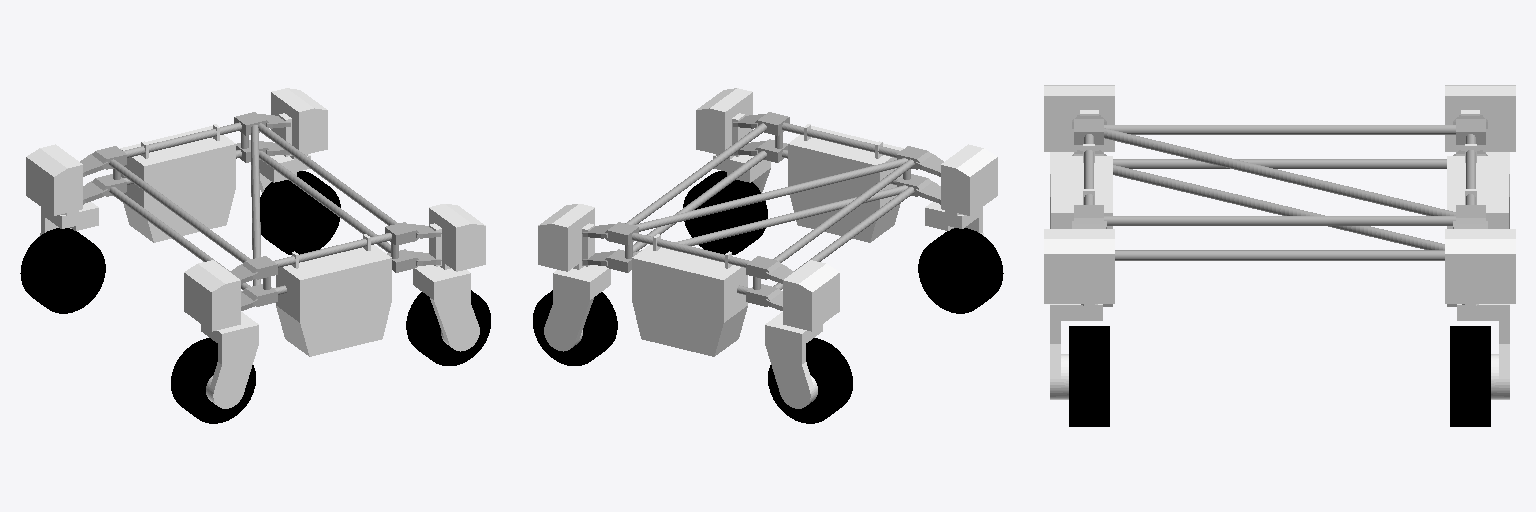
--- Render facts (derived) ---
3 views of the same robot in one strip: view 1: azimuth 30°, elevation 25°; view 2: azimuth 150°, elevation 25°; view 3: azimuth 270°, elevation 25° (orthographic).
Robot: thorvald_ii — 45 links, 44 joints (8 continuous, 36 fixed); root link /base_link; default pose: all joints at 0.
Visible links, largest first — view 1: /bat1, /bat0, /wheel3_link, /wheel2_link, /leg1, /wheel0_link, /top3, /top0, /leg0, /top1, /wheel1_link, /top2 (+10 smaller); view 2: /bat0, /bat1, /wheel0_link, /wheel1_link, /leg2, /wheel3_link, /top0, /top3, /leg3, /top2, /wheel2_link, /top1 (+11 smaller); view 3: /top1, /top2, /wheel1_link, /wheel2_link, /top3, /pipe1_1, /top0, /pipe4_2, /pipe1_2, /pipe3_2, /bat1, /bat0 (+10 smaller).
Boxes of the visible links, x1,y1,x2,y2 form: /bat1: (276, 234, 391, 356); /bat0: (120, 124, 235, 242); /wheel3_link: (20, 228, 105, 313); /wheel2_link: (260, 171, 340, 254); /leg1: (413, 265, 479, 351); /wheel0_link: (171, 338, 255, 423); /top3: (26, 144, 82, 215); /top0: (184, 260, 240, 331); /leg0: (201, 312, 258, 408); /top1: (429, 204, 485, 271); /wheel1_link: (406, 290, 490, 365); /top2: (271, 88, 327, 159); /bat0: (632, 234, 747, 356); /bat1: (788, 124, 903, 242); /wheel0_link: (918, 228, 1003, 313); /wheel1_link: (683, 171, 767, 254); /leg2: (544, 265, 610, 351); /wheel3_link: (768, 338, 852, 423); /top0: (941, 144, 997, 215); /top3: (783, 260, 839, 331); /leg3: (765, 312, 822, 408); /top2: (538, 204, 594, 271); /wheel2_link: (533, 290, 617, 365); /top1: (696, 88, 752, 159); /top1: (1044, 229, 1114, 305); /top2: (1445, 229, 1515, 305); /wheel1_link: (1069, 326, 1109, 426); /wheel2_link: (1450, 326, 1490, 426); /top3: (1445, 85, 1515, 152); /pipe1_1: (1115, 250, 1444, 260); /top0: (1044, 85, 1114, 152); /pipe4_2: (1104, 128, 1455, 215); /pipe1_2: (1104, 216, 1455, 225); /pipe3_2: (1104, 125, 1455, 134); /bat1: (1051, 144, 1112, 306); /bat0: (1447, 144, 1508, 306).
Bounding box of the posed robot: 1.76 × 1.85 × 0.8114 m (x, y, z).
Meshes: 7 distinct files referenced, 26 mesh visuals loaded (7 binary STL).

URDF robot description (thorvald_ii):
<?xml version="1.0" ?>
<!-- =================================================================================== -->
<!-- |    This document was autogenerated by xacro from thorvald_model.xacro           | -->
<!-- |    EDITING THIS FILE BY HAND IS NOT RECOMMENDED                                 | -->
<!-- =================================================================================== -->
<!--
     Maintainer: Lars Grimstad <[email redacted]>

     TODO
     - config file name as arg
     - modify to accept drive modules without steering, passive wheel modules etc.
     - add mesh
     - add mass properties
     - common parameters to a config file?
-->
<robot name="thorvald_ii" xmlns:xacro="http://www.ros.org/wiki/xacro">
  <!-- <gazebo>
    <plugin filename="libthorvald_gazebo_plugins.so" name="_thorvald_gazebo_plugins">
      <alwaysOn>true</alwaysOn>
      <updateRate>20</updateRate>
      <robotNamespace></robotNamespace>
      <commandTopic>base_state</commandTopic>
      <odometryTopic>odometry/gazebo</odometryTopic>
      <odometryFrame>/odom</odometryFrame>
      <robotBaseFrame>/base_link</robotBaseFrame>
      <steering0>/steering0</steering0>
      <steering1>/steering1</steering1>
      <steering2>/steering2</steering2>
      <steering3>/steering3</steering3>
      <steering4>/steering4</steering4>
      <steering5>/steering5</steering5>
      <steering6>/steering6</steering6>
      <steering7>/steering7</steering7>
      <steering8>/steering8</steering8>
      <steering9>/steering9</steering9>
      <steering10>s/teering10</steering10>
      <wheel0>/wheel0</wheel0>
      <wheel1>/wheel1</wheel1>
      <wheel2>/wheel2</wheel2>
      <wheel3>/wheel3</wheel3>
      <wheel4>/wheel4</wheel4>
      <wheel5>/wheel5</wheel5>
      <wheel6>/wheel6</wheel6>
      <wheel7>/wheel7</wheel7>
      <wheel8>/wheel8</wheel8>
      <wheel9>/wheel9</wheel9>
      <wheel10>/wheel10</wheel10>
    </plugin>
  </gazebo> -->
  <!--
    <alwaysOn>true</alwaysOn>
    <robotNamespace>thorvald_ii</robotNamespace>
    <steering2>steering2</steering2>
    <steering1>steering1</steering1>
    <steering3>steering3</steering3>
    <steering0>steering0</steering0>
    <publishOdometryMsg>true</publishOdometryMsg>
    <publishOdometryTf>true</publishOdometryTf>
    <robotBaseFrame>base_link</robotBaseFrame>
    <commandTopic>joint_commands</commandTopic>
    <odometryTopic>odom</odometryTopic>
    <odometryFrame>odom</odometryFrame>
    <updateRate>100.0</updateRate>
    <platform_width>0.570</platform_width>
    <wheel_radius>0.400</wheel_radius>
      <torque>5.0</torque>
    </plugin>
  </gazebo> -->
  <!-- MATERIAL DEFINITIONS -->
  <material name="white">
    <color rgba="1 1 1 1"/>
  </material>
  <material name="black">
    <color rgba="0 0 0 1"/>
  </material>
  <material name="red">
    <color rgba="1 0 0 1"/>
  </material>
  <material name="green">
    <color rgba="0 1 0 1"/>
  </material>
  <material name="alu">
    <color rgba="0.75 0.75 0.75 1"/>
  </material>
  <!-- CREATE ROBOT -->
  <!-- Create base link -->
  <link name="/base_link"/>
  <link name="/top0">
    <inertial>
      <origin rpy="0 0 0" xyz="0 0 0"/>
      <mass value="10.21"/>
      <!-- Measured /-->
      <inertia ixx="1.267" ixy="0.086" ixz="0.078" iyy="1.089" iyz="0.150" izz="0.853"/>
      <!-- Measured /-->
    </inertial>
    <visual>
      <geometry>
        <mesh filename="../meshes/tower_modules/DUMMY-TOWER-M.stl"/>
      </geometry>
      <material name="white"/>
    </visual>
    <collision name="leg0_collision">
      <geometry>
        <mesh filename="../meshes/tower_modules/DUMMY-TOWER-M.stl"/>
      </geometry>
    </collision>
  </link>
  <!-- <gazebo reference="/top0">
    <sensor name="my_contact" type="contact">
      <plugin filename="libcontact.so" name="my_plugin"/>
      <contact>
        <collision>/top0_fixed_joint_lump__top0_collision_collision</collision>
      </contact>
      <plugin filename="libgazebo_ros_bumper.so" name="gazebo_ros_bumper_controller">
        <bumperTopicName>bumper_vals</bumperTopicName>
      </plugin>
    </sensor>
  </gazebo> -->
  <joint name="/base_linktop0" type="fixed">
    <parent link="/base_link"/>
    <child link="/top0"/>
    <origin rpy="0 0 3.14159265359" xyz="-0.67792 -0.75 0.65"/>
    <axis xyz="0 0 1"/>
  </joint>
  <link name="/leg0">
    <inertial>
      <origin rpy="0 0 0" xyz="0 0 0"/>
      <mass value="15.64"/>
      <!-- Measured /-->
      <inertia ixx="6.150" ixy="1.310" ixz="0.218" iyy="1.386" iyz="0.873" izz="6.098"/>
      <!-- Measured /-->
    </inertial>
    <visual>
      <origin rpy="0 0 3.14159265359" xyz="0 0 0"/>
      <geometry>
        <mesh filename="../meshes/drive_modules/836745-5-DUMMY-RevA.stl"/>
        <!--cylinder length="${leg_length}" radius="${leg_radius}"/-->
        <!--mesh filename="package://thorvald_base/meshes/top_chassis.dae"/-->
      </geometry>
      <material name="white"/>
    </visual>
    <collision name="leg0_collision">
      <origin rpy="0 0 3.14159265359" xyz="0 0 0"/>
      <geometry>
        <mesh filename="../meshes/drive_modules/836745-5-DUMMY-RevA.stl"/>
      </geometry>
    </collision>
  </link>
  <!-- <gazebo reference="/leg0">
    <sensor name="my_contact" type="contact">
      <plugin filename="libcontact.so" name="my_plugin"/>
      <contact>
        <collision>/leg0_fixed_joint_lump__leg0_collision_collision</collision>
      </contact>
      <plugin filename="libgazebo_ros_bumper.so" name="gazebo_ros_bumper_controller">
        <bumperTopicName>bumper_vals</bumperTopicName>
      </plugin>
    </sensor>
  </gazebo> -->
  <joint name="/steering0" type="continuous">
    <parent link="/base_link"/>
    <child link="/leg0"/>
    <origin rpy="0 0 0" xyz="-0.67792 -0.75 0.2"/>
    <axis xyz="0 0 1"/>
  </joint>
  <transmission name="steering0_tran">
    <type>transmission_interface/SimpleTransmission</type>
    <joint name="/steering0">
      <hardwareInterface>hardware_interface/EffortJointInterface</hardwareInterface>
    </joint>
    <actuator name="steering0_motor">
      <hardwareInterface>hardware_interface/EffortJointInterface</hardwareInterface>
      <mechanicalReduction>1</mechanicalReduction>
    </actuator>
  </transmission>
  <link name="/wheel0_link">
    <inertial>
      <origin rpy="0 0 0" xyz="0 0 0"/>
      <mass value="6.00"/>
      <!-- Measured /-->
      <inertia ixx="0.874" ixy="0.00" ixz="0.00" iyy="1.504" iyz="0.00" izz="0.874"/>
      <!-- Measured /-->
    </inertial>
    <visual>
      <geometry>
        <cylinder length="0.16" radius="0.2"/>
      </geometry>
      <material name="black"/>
    </visual>
    <collision name="wheel0_collision">
      <geometry>
        <cylinder length="0.16" radius="0.2"/>
      </geometry>
    </collision>
  </link>
  <!-- <gazebo reference="/wheel0_link">
    <material>Gazebo/Black</material>
    <mu1 value="0.5"/>
    <mu2 value="0.5"/>
    <kp value="1000000.0"/>
    <kd value="1.0"/>
    <sensor name="my_contact" type="contact">
      <plugin filename="libcontact.so" name="my_plugin"/>
      <contact>
        <collision>/wheel0_link_fixed_joint_lump__wheel0_collision_collision</collision>
      </contact>
      <plugin filename="libgazebo_ros_bumper.so" name="gazebo_ros_bumper_controller">
        <bumperTopicName>bumper_vals</bumperTopicName>
      </plugin>
    </sensor>
  </gazebo>
  <gazebo reference="/wheel0_link">
    <material>Gazebo/Black</material>
    <mu1 value="0.5"/>
    <mu2 value="0.5"/>
    <kp value="1000000.0"/>
    <kd value="1.0"/>
  </gazebo> -->
  <joint name="/wheel0" type="continuous">
    <parent link="/leg0"/>
    <child link="/wheel0_link"/>
    <origin rpy="-1.57079632679 0 0" xyz="0 0 0"/>
    <axis xyz="0 0 1"/>
    <!--dynamics damping="0" friction="0"/-->
  </joint>
  <transmission name="wheel0_tran">
    <type>transmission_interface/SimpleTransmission</type>
    <joint name="/wheel0">
      <hardwareInterface>hardware_interface/EffortJointInterface</hardwareInterface>
    </joint>
    <actuator name="wheel0_motor">
      <hardwareInterface>hardware_interface/EffortJointInterface</hardwareInterface>
      <mechanicalReduction>1</mechanicalReduction>
    </actuator>
  </transmission>
  <!-- -->
  <!--
    <link name="$(arg tf_prefix)/rod_l_${wheel}">
      <visual>
        <geometry>
          <cylinder length="20" radius="0.01"/>
        </geometry>
	<material name="red" />
      </visual>
    </link>


    <joint name="$(arg tf_prefix)/rod_l_${wheel}" type="fixed">
      <parent link="$(arg tf_prefix)/${wheel}_link"/>
      <child link="$(arg tf_prefix)/rod_l_${wheel}"/>
      <origin xyz="0 0 10" rpy="0 0 0"/>
      <axis xyz="0 0 1"/>
    </joint>

    <link name="$(arg tf_prefix)/rod_r_${wheel}">
      <visual>
        <geometry>
          <cylinder length="20" radius="0.01"/>
        </geometry>
	<material name="green" />
      </visual>
    </link>

    <joint name="$(arg tf_prefix)/rod_r_${wheel}" type="fixed">
      <parent link="$(arg tf_prefix)/${wheel}_link"/>
      <child link="$(arg tf_prefix)/rod_r_${wheel}"/>
      <origin xyz="0 0 -10" rpy="0 0 0"/>
      <axis xyz="0 0 1"/>
    </joint>



    <link name="$(arg tf_prefix)/rod2_l_${wheel}">
      <visual>
        <geometry>
          <cylinder length="80" radius="0.01"/>
        </geometry>
	<material name="red" />
      </visual>
    </link>

    <joint name="$(arg tf_prefix)/rod2_l_${wheel}" type="fixed">
      <parent link="$(arg tf_prefix)/rod_l_${wheel}"/>
      <child link="$(arg tf_prefix)/rod2_l_${wheel}"/>
      <origin xyz="0 0 40" rpy="0 0 0"/>
      <axis xyz="0 0 1"/>
    </joint>

    <link name="$(arg tf_prefix)/rod2_r_${wheel}">
      <visual>
        <geometry>
          <cylinder length="80" radius="0.01"/>
        </geometry>
	<material name="green" />
      </visual>
    </link>

    <joint name="$(arg tf_prefix)/rod2_r_${wheel}" type="fixed">
      <parent link="$(arg tf_prefix)/rod_r_${wheel}"/>
      <child link="$(arg tf_prefix)/rod2_r_${wheel}"/>
      <origin xyz="0 0 -40" rpy="0 0 0"/>
      <axis xyz="0 0 1"/>
    </joint>
    -->
  <!-- -->
  <link name="/top1">
    <inertial>
      <origin rpy="0 0 0" xyz="0 0 0"/>
      <mass value="10.21"/>
      <!-- Measured /-->
      <inertia ixx="1.267" ixy="0.086" ixz="0.078" iyy="1.089" iyz="0.150" izz="0.853"/>
      <!-- Measured /-->
    </inertial>
    <visual>
      <geometry>
        <mesh filename="../meshes/tower_modules/DUMMY-TOWER-MIRROR-M.stl"/>
      </geometry>
      <material name="white"/>
    </visual>
    <collision name="leg1_collision">
      <geometry>
        <mesh filename="../meshes/tower_modules/DUMMY-TOWER-MIRROR-M.stl"/>
      </geometry>
    </collision>
  </link>
  <!-- <gazebo reference="/top1">
    <sensor name="my_contact" type="contact">
      <plugin filename="libcontact.so" name="my_plugin"/>
      <contact>
        <collision>/top1_fixed_joint_lump__top1_collision_collision</collision>
      </contact>
      <plugin filename="libgazebo_ros_bumper.so" name="gazebo_ros_bumper_controller">
        <bumperTopicName>bumper_vals</bumperTopicName>
      </plugin>
    </sensor>
  </gazebo> -->
  <joint name="/base_linktop1" type="fixed">
    <parent link="/base_link"/>
    <child link="/top1"/>
    <origin rpy="0 0 0" xyz="0.67792 -0.75 0.65"/>
    <axis xyz="0 0 1"/>
  </joint>
  <link name="/leg1">
    <inertial>
      <origin rpy="0 0 0" xyz="0 0 0"/>
      <mass value="15.64"/>
      <!-- Measured /-->
      <inertia ixx="6.150" ixy="1.310" ixz="0.218" iyy="1.386" iyz="0.873" izz="6.098"/>
      <!-- Measured /-->
    </inertial>
    <visual>
      <origin rpy="0 0 0" xyz="0 0 0"/>
      <geometry>
        <mesh filename="../meshes/drive_modules/836745-5-DUMMY-MIRROR-RevA.stl"/>
        <!--cylinder length="${leg_length}" radius="${leg_radius}"/-->
        <!--mesh filename="package://thorvald_base/meshes/top_chassis.dae"/-->
      </geometry>
      <material name="white"/>
    </visual>
    <collision name="leg1_collision">
      <origin rpy="0 0 0" xyz="0 0 0"/>
      <geometry>
        <mesh filename="../meshes/drive_modules/836745-5-DUMMY-MIRROR-RevA.stl"/>
      </geometry>
    </collision>
  </link>
  <!-- <gazebo reference="/leg1">
    <sensor name="my_contact" type="contact">
      <plugin filename="libcontact.so" name="my_plugin"/>
      <contact>
        <collision>/leg1_fixed_joint_lump__leg1_collision_collision</collision>
      </contact>
      <plugin filename="libgazebo_ros_bumper.so" name="gazebo_ros_bumper_controller">
        <bumperTopicName>bumper_vals</bumperTopicName>
      </plugin>
    </sensor>
  </gazebo> -->
  <joint name="/steering1" type="continuous">
    <parent link="/base_link"/>
    <child link="/leg1"/>
    <origin rpy="0 0 0" xyz="0.67792 -0.75 0.2"/>
    <axis xyz="0 0 1"/>
  </joint>
  <transmission name="steering1_tran">
    <type>transmission_interface/SimpleTransmission</type>
    <joint name="/steering1">
      <hardwareInterface>hardware_interface/EffortJointInterface</hardwareInterface>
    </joint>
    <actuator name="steering1_motor">
      <hardwareInterface>hardware_interface/EffortJointInterface</hardwareInterface>
      <mechanicalReduction>1</mechanicalReduction>
    </actuator>
  </transmission>
  <link name="/wheel1_link">
    <inertial>
      <origin rpy="0 0 0" xyz="0 0 0"/>
      <mass value="6.00"/>
      <!-- Measured /-->
      <inertia ixx="0.874" ixy="0.00" ixz="0.00" iyy="1.504" iyz="0.00" izz="0.874"/>
      <!-- Measured /-->
    </inertial>
    <visual>
      <geometry>
        <cylinder length="0.16" radius="0.2"/>
      </geometry>
      <material name="black"/>
    </visual>
    <collision name="wheel1_collision">
      <geometry>
        <cylinder length="0.16" radius="0.2"/>
      </geometry>
    </collision>
  </link>
  <!-- <gazebo reference="/wheel1_link">
    <material>Gazebo/Black</material>
    <mu1 value="0.5"/>
    <mu2 value="0.5"/>
    <kp value="1000000.0"/>
    <kd value="1.0"/>
    <sensor name="my_contact" type="contact">
      <plugin filename="libcontact.so" name="my_plugin"/>
      <contact>
        <collision>/wheel1_link_fixed_joint_lump__wheel1_collision_collision</collision>
      </contact>
      <plugin filename="libgazebo_ros_bumper.so" name="gazebo_ros_bumper_controller">
        <bumperTopicName>bumper_vals</bumperTopicName>
      </plugin>
    </sensor>
  </gazebo>
  <gazebo reference="/wheel1_link">
    <material>Gazebo/Black</material>
    <mu1 value="0.5"/>
    <mu2 value="0.5"/>
    <kp value="1000000.0"/>
    <kd value="1.0"/>
  </gazebo> -->
  <joint name="/wheel1" type="continuous">
    <parent link="/leg1"/>
    <child link="/wheel1_link"/>
    <origin rpy="-1.57079632679 0 0" xyz="0 0 0"/>
    <axis xyz="0 0 1"/>
    <!--dynamics damping="0" friction="0"/-->
  </joint>
  <transmission name="wheel1_tran">
    <type>transmission_interface/SimpleTransmission</type>
    <joint name="/wheel1">
      <hardwareInterface>hardware_interface/EffortJointInterface</hardwareInterface>
    </joint>
    <actuator name="wheel1_motor">
      <hardwareInterface>hardware_interface/EffortJointInterface</hardwareInterface>
      <mechanicalReduction>1</mechanicalReduction>
    </actuator>
  </transmission>
  <!-- -->
  <!--
    <link name="$(arg tf_prefix)/rod_l_${wheel}">
      <visual>
        <geometry>
          <cylinder length="20" radius="0.01"/>
        </geometry>
	<material name="red" />
      </visual>
    </link>


    <joint name="$(arg tf_prefix)/rod_l_${wheel}" type="fixed">
      <parent link="$(arg tf_prefix)/${wheel}_link"/>
      <child link="$(arg tf_prefix)/rod_l_${wheel}"/>
      <origin xyz="0 0 10" rpy="0 0 0"/>
      <axis xyz="0 0 1"/>
    </joint>

    <link name="$(arg tf_prefix)/rod_r_${wheel}">
      <visual>
        <geometry>
          <cylinder length="20" radius="0.01"/>
        </geometry>
	<material name="green" />
      </visual>
    </link>

    <joint name="$(arg tf_prefix)/rod_r_${wheel}" type="fixed">
      <parent link="$(arg tf_prefix)/${wheel}_link"/>
      <child link="$(arg tf_prefix)/rod_r_${wheel}"/>
      <origin xyz="0 0 -10" rpy="0 0 0"/>
      <axis xyz="0 0 1"/>
    </joint>



    <link name="$(arg tf_prefix)/rod2_l_${wheel}">
      <visual>
        <geometry>
          <cylinder length="80" radius="0.01"/>
        </geometry>
	<material name="red" />
      </visual>
    </link>

    <joint name="$(arg tf_prefix)/rod2_l_${wheel}" type="fixed">
      <parent link="$(arg tf_prefix)/rod_l_${wheel}"/>
      <child link="$(arg tf_prefix)/rod2_l_${wheel}"/>
      <origin xyz="0 0 40" rpy="0 0 0"/>
      <axis xyz="0 0 1"/>
    </joint>

    <link name="$(arg tf_prefix)/rod2_r_${wheel}">
      <visual>
        <geometry>
          <cylinder length="80" radius="0.01"/>
        </geometry>
	<material name="green" />
      </visual>
    </link>

    <joint name="$(arg tf_prefix)/rod2_r_${wheel}" type="fixed">
      <parent link="$(arg tf_prefix)/rod_r_${wheel}"/>
      <child link="$(arg tf_prefix)/rod2_r_${wheel}"/>
      <origin xyz="0 0 -40" rpy="0 0 0"/>
      <axis xyz="0 0 1"/>
    </joint>
    -->
  <!-- -->
  <link name="/top2">
    <inertial>
      <origin rpy="0 0 0" xyz="0 0 0"/>
      <mass value="10.21"/>
      <!-- Measured /-->
      <inertia ixx="1.267" ixy="0.086" ixz="0.078" iyy="1.089" iyz="0.150" izz="0.853"/>
      <!-- Measured /-->
    </inertial>
    <visual>
      <geometry>
        <mesh filename="../meshes/tower_modules/DUMMY-TOWER-M.stl"/>
      </geometry>
      <material name="white"/>
    </visual>
    <collision name="leg2_collision">
      <geometry>
        <mesh filename="../meshes/tower_modules/DUMMY-TOWER-M.stl"/>
      </geometry>
    </collision>
  </link>
  <!-- <gazebo reference="/top2">
    <sensor name="my_contact" type="contact">
      <plugin filename="libcontact.so" name="my_plugin"/>
      <contact>
        <collision>/top2_fixed_joint_lump__top2_collision_collision</collision>
      </contact>
      <plugin filename="libgazebo_ros_bumper.so" name="gazebo_ros_bumper_controller">
        <bumperTopicName>bumper_vals</bumperTopicName>
      </plugin>
    </sensor>
  </gazebo> -->
  <joint name="/base_linktop2" type="fixed">
    <parent link="/base_link"/>
    <child link="/top2"/>
    <origin rpy="0 0 0" xyz="0.67792 0.75 0.65"/>
    <axis xyz="0 0 1"/>
  </joint>
  <link name="/leg2">
    <inertial>
      <origin rpy="0 0 0" xyz="0 0 0"/>
      <mass value="15.64"/>
      <!-- Measured /-->
      <inertia ixx="6.150" ixy="1.310" ixz="0.218" iyy="1.386" iyz="0.873" izz="6.098"/>
      <!-- Measured /-->
    </inertial>
    <visual>
      <origin rpy="0 0 0" xyz="0 0 0"/>
      <geometry>
        <mesh filename="../meshes/drive_modules/836745-5-DUMMY-RevA.stl"/>
        <!--cylinder length="${leg_length}" radius="${leg_radius}"/-->
        <!--mesh filename="package://thorvald_base/meshes/top_chassis.dae"/-->
      </geometry>
      <material name="white"/>
    </visual>
    <collision name="leg2_collision">
      <origin rpy="0 0 0" xyz="0 0 0"/>
      <geometry>
        <mesh filename="../meshes/drive_modules/836745-5-DUMMY-RevA.stl"/>
      </geometry>
    </collision>
  </link>
  <!-- <gazebo reference="/leg2">
    <sensor name="my_contact" type="contact">
      <plugin filename="libcontact.so" name="my_plugin"/>
      <contact>
        <collision>/leg2_fixed_joint_lump__leg2_collision_collision</collision>
      </contact>
      <plugin filename="libgazebo_ros_bumper.so" name="gazebo_ros_bumper_controller">
        <bumperTopicName>bumper_vals</bumperTopicName>
      </plugin>
    </sensor>
  </gazebo> -->
  <joint name="/steering2" type="continuous">
    <parent link="/base_link"/>
    <child link="/leg2"/>
    <origin rpy="0 0 0" xyz="0.67792 0.75 0.2"/>
    <axis xyz="0 0 1"/>
  </joint>
  <transmission name="steering2_tran">
    <type>transmission_interface/SimpleTransmission</type>
    <joint name="/steering2">
      <hardwareInterface>hardware_interface/EffortJointInterface</hardwareInterface>
    </joint>
    <actuator name="steering2_motor">
      <hardwareInterface>hardware_interface/EffortJointInterface</hardwareInterface>
      <mechanicalReduction>1</mechanicalReduction>
    </actuator>
  </transmission>
  <link name="/wheel2_link">
    <inertial>
      <origin rpy="0 0 0" xyz="0 0 0"/>
      <mass value="6.00"/>
      <!-- Measured /-->
      <inertia ixx="0.874" ixy="0.00" ixz="0.00" iyy="1.504" iyz="0.00" izz="0.874"/>
      <!-- Measured /-->
    </inertial>
    <visual>
      <geometry>
        <cylinder length="0.16" radius="0.2"/>
      </geometry>
      <material name="black"/>
    </visual>
    <collision name="wheel2_collision">
      <geometry>
        <cylinder length="0.16" radius="0.2"/>
      </geometry>
    </collision>
  </link>
  <!-- <gazebo reference="/wheel2_link">
    <material>Gazebo/Black</material>
    <mu1 value="0.5"/>
    <mu2 value="0.5"/>
    <kp value="1000000.0"/>
    <kd value="1.0"/>
    <sensor name="my_contact" type="contact">
      <plugin filename="libcontact.so" name="my_plugin"/>
      <contact>
        <collision>/wheel2_link_fixed_joint_lump__wheel2_collision_collision</collision>
      </contact>
      <plugin filename="libgazebo_ros_bumper.so" name="gazebo_ros_bumper_controller">
        <bumperTopicName>bumper_vals</bumperTopicName>
      </plugin>
    </sensor>
  </gazebo>
  <gazebo reference="/wheel2_link">
    <material>Gazebo/Black</material>
    <mu1 value="0.5"/>
    <mu2 value="0.5"/>
    <kp value="1000000.0"/>
    <kd value="1.0"/>
  </gazebo> -->
  <joint name="/wheel2" type="continuous">
    <parent link="/leg2"/>
    <child link="/wheel2_link"/>
    <origin rpy="-1.57079632679 0 0" xyz="0 0 0"/>
    <axis xyz="0 0 1"/>
    <!--dynamics damping="0" friction="0"/-->
  </joint>
  <transmission name="wheel2_tran">
    <type>transmission_interface/SimpleTransmission</type>
    <joint name="/wheel2">
      <hardwareInterface>hardware_interface/EffortJointInterface</hardwareInterface>
    </joint>
    <actuator name="wheel2_motor">
      <hardwareInterface>hardware_interface/EffortJointInterface</hardwareInterface>
      <mechanicalReduction>1</mechanicalReduction>
    </actuator>
  </transmission>
  <!-- -->
  <!--
    <link name="$(arg tf_prefix)/rod_l_${wheel}">
      <visual>
        <geometry>
          <cylinder length="20" radius="0.01"/>
        </geometry>
	<material name="red" />
      </visual>
    </link>


    <joint name="$(arg tf_prefix)/rod_l_${wheel}" type="fixed">
      <parent link="$(arg tf_prefix)/${wheel}_link"/>
      <child link="$(arg tf_prefix)/rod_l_${wheel}"/>
      <origin xyz="0 0 10" rpy="0 0 0"/>
      <axis xyz="0 0 1"/>
    </joint>

    <link name="$(arg tf_prefix)/rod_r_${wheel}">
      <visual>
        <geometry>
          <cylinder length="20" radius="0.01"/>
        </geometry>
	<material name="green" />
      </visual>
    </link>

    <joint name="$(arg tf_prefix)/rod_r_${wheel}" type="fixed">
      <parent link="$(arg tf_prefix)/${wheel}_link"/>
      <child link="$(arg tf_prefix)/rod_r_${wheel}"/>
      <origin xyz="0 0 -10" rpy="0 0 0"/>
      <axis xyz="0 0 1"/>
    </joint>



    <link name="$(arg tf_prefix)/rod2_l_${wheel}">
      <visual>
        <geometry>
          <cylinder length="80" radius="0.01"/>
        </geometry>
	<material name="red" />
      </visual>
    </link>

    <joint name="$(arg tf_prefix)/rod2_l_${wheel}" type="fixed">
      <parent link="$(arg tf_prefix)/rod_l_${wheel}"/>
      <child link="$(arg tf_prefix)/rod2_l_${wheel}"/>
      <origin xyz="0 0 40" rpy="0 0 0"/>
      <axis xyz="0 0 1"/>
    </joint>

    <link name="$(arg tf_prefix)/rod2_r_${wheel}">
      <visual>
        <geometry>
          <cylinder length="80" radius="0.01"/>
        </geometry>
	<material name="green" />
      </visual>
    </link>

    <joint name="$(arg tf_prefix)/rod2_r_${wheel}" type="fixed">
      <parent link="$(arg tf_prefix)/rod_r_${wheel}"/>
      <child link="$(arg tf_prefix)/rod2_r_${wheel}"/>
      <origin xyz="0 0 -40" rpy="0 0 0"/>
      <axis xyz="0 0 1"/>
    </joint>
    -->
  <!-- -->
  <link name="/top3">
    <inertial>
      <origin rpy="0 0 0" xyz="0 0 0"/>
      <mass value="10.21"/>
      <!-- Measured /-->
      <inertia ixx="1.267" ixy="0.086" ixz="0.078" iyy="1.089" iyz="0.150" izz="0.853"/>
      <!-- Measured /-->
    </inertial>
    <visual>
      <geometry>
        <mesh filename="../meshes/tower_modules/DUMMY-TOWER-MIRROR-M.stl"/>
      </geometry>
      <material name="white"/>
    </visual>
    <collision name="leg3_collision">
      <geometry>
        <mesh filename="../meshes/tower_modules/DUMMY-TOWER-MIRROR-M.stl"/>
      </geometry>
    </collision>
  </link>
  <!-- <gazebo reference="/top3">
    <sensor name="my_contact" type="contact">
      <plugin filename="libcontact.so" name="my_plugin"/>
      <contact>
        <collision>/top3_fixed_joint_lump__top3_collision_collision</collision>
      </contact>
      <plugin filename="libgazebo_ros_bumper.so" name="gazebo_ros_bumper_controller">
        <bumperTopicName>bumper_vals</bumperTopicName>
      </plugin>
    </sensor>
  </gazebo> -->
  <joint name="/base_linktop3" type="fixed">
    <parent link="/base_link"/>
    <child link="/top3"/>
    <origin rpy="0 0 3.14159265359" xyz="-0.67792 0.75 0.65"/>
    <axis xyz="0 0 1"/>
  </joint>
  <link name="/leg3">
    <inertial>
      <origin rpy="0 0 0" xyz="0 0 0"/>
      <mass value="15.64"/>
      <!-- Measured /-->
      <inertia ixx="6.150" ixy="1.310" ixz="0.218" iyy="1.386" iyz="0.873" izz="6.098"/>
      <!-- Measured /-->
    </inertial>
    <visual>
      <origin rpy="0 0 3.14159265359" xyz="0 0 0"/>
      <geometry>
        <mesh filename="../meshes/drive_modules/836745-5-DUMMY-MIRROR-RevA.stl"/>
        <!--cylinder length="${leg_length}" radius="${leg_radius}"/-->
        <!--mesh filename="package://thorvald_base/meshes/top_chassis.dae"/-->
      </geometry>
      <material name="white"/>
    </visual>
    <collision name="leg3_collision">
      <origin rpy="0 0 3.14159265359" xyz="0 0 0"/>
      <geometry>
        <mesh filename="../meshes/drive_modules/836745-5-DUMMY-MIRROR-RevA.stl"/>
      </geometry>
    </collision>
  </link>
  <!-- <gazebo reference="/leg3">
    <sensor name="my_contact" type="contact">
      <plugin filename="libcontact.so" name="my_plugin"/>
      <contact>
        <collision>/leg3_fixed_joint_lump__leg3_collision_collision</collision>
      </contact>
      <plugin filename="libgazebo_ros_bumper.so" name="gazebo_ros_bumper_controller">
        <bumperTopicName>bumper_vals</bumperTopicName>
      </plugin>
    </sensor>
  </gazebo> -->
  <joint name="/steering3" type="continuous">
    <parent link="/base_link"/>
    <child link="/leg3"/>
    <origin rpy="0 0 0" xyz="-0.67792 0.75 0.2"/>
    <axis xyz="0 0 1"/>
  </joint>
  <transmission name="steering3_tran">
    <type>transmission_interface/SimpleTransmission</type>
    <joint name="/steering3">
      <hardwareInterface>hardware_interface/EffortJointInterface</hardwareInterface>
    </joint>
    <actuator name="steering3_motor">
      <hardwareInterface>hardware_interface/EffortJointInterface</hardwareInterface>
      <mechanicalReduction>1</mechanicalReduction>
    </actuator>
  </transmission>
  <link name="/wheel3_link">
    <inertial>
      <origin rpy="0 0 0" xyz="0 0 0"/>
      <mass value="6.00"/>
      <!-- Measured /-->
      <inertia ixx="0.874" ixy="0.00" ixz="0.00" iyy="1.504" iyz="0.00" izz="0.874"/>
      <!-- Measured /-->
    </inertial>
    <visual>
      <geometry>
        <cylinder length="0.16" radius="0.2"/>
      </geometry>
      <material name="black"/>
    </visual>
    <collision name="wheel3_collision">
      <geometry>
        <cylinder length="0.16" radius="0.2"/>
      </geometry>
    </collision>
  </link>
  <!-- <gazebo reference="/wheel3_link">
    <material>Gazebo/Black</material>
    <mu1 value="0.5"/>
    <mu2 value="0.5"/>
    <kp value="1000000.0"/>
    <kd value="1.0"/>
    <sensor name="my_contact" type="contact">
      <plugin filename="libcontact.so" name="my_plugin"/>
      <contact>
        <collision>/wheel3_link_fixed_joint_lump__wheel3_collision_collision</collision>
      </contact>
      <plugin filename="libgazebo_ros_bumper.so" name="gazebo_ros_bumper_controller">
        <bumperTopicName>bumper_vals</bumperTopicName>
      </plugin>
    </sensor>
  </gazebo>
  <gazebo reference="/wheel3_link">
    <material>Gazebo/Black</material>
    <mu1 value="0.5"/>
    <mu2 value="0.5"/>
    <kp value="1000000.0"/>
    <kd value="1.0"/>
  </gazebo> -->
  <joint name="/wheel3" type="continuous">
    <parent link="/leg3"/>
    <child link="/wheel3_link"/>
    <origin rpy="-1.57079632679 0 0" xyz="0 0 0"/>
    <axis xyz="0 0 1"/>
    <!--dynamics damping="0" friction="0"/-->
  </joint>
  <transmission name="wheel3_tran">
    <type>transmission_interface/SimpleTransmission</type>
    <joint name="/wheel3">
      <hardwareInterface>hardware_interface/EffortJointInterface</hardwareInterface>
    </joint>
    <actuator name="wheel3_motor">
      <hardwareInterface>hardware_interface/EffortJointInterface</hardwareInterface>
      <mechanicalReduction>1</mechanicalReduction>
    </actuator>
  </transmission>
  <!-- -->
  <!--
    <link name="$(arg tf_prefix)/rod_l_${wheel}">
      <visual>
        <geometry>
          <cylinder length="20" radius="0.01"/>
        </geometry>
	<material name="red" />
      </visual>
    </link>


    <joint name="$(arg tf_prefix)/rod_l_${wheel}" type="fixed">
      <parent link="$(arg tf_prefix)/${wheel}_link"/>
      <child link="$(arg tf_prefix)/rod_l_${wheel}"/>
      <origin xyz="0 0 10" rpy="0 0 0"/>
      <axis xyz="0 0 1"/>
    </joint>

    <link name="$(arg tf_prefix)/rod_r_${wheel}">
      <visual>
        <geometry>
          <cylinder length="20" radius="0.01"/>
        </geometry>
	<material name="green" />
      </visual>
    </link>

    <joint name="$(arg tf_prefix)/rod_r_${wheel}" type="fixed">
      <parent link="$(arg tf_prefix)/${wheel}_link"/>
      <child link="$(arg tf_prefix)/rod_r_${wheel}"/>
      <origin xyz="0 0 -10" rpy="0 0 0"/>
      <axis xyz="0 0 1"/>
    </joint>



    <link name="$(arg tf_prefix)/rod2_l_${wheel}">
      <visual>
        <geometry>
          <cylinder length="80" radius="0.01"/>
        </geometry>
	<material name="red" />
      </visual>
    </link>

    <joint name="$(arg tf_prefix)/rod2_l_${wheel}" type="fixed">
      <parent link="$(arg tf_prefix)/rod_l_${wheel}"/>
      <child link="$(arg tf_prefix)/rod2_l_${wheel}"/>
      <origin xyz="0 0 40" rpy="0 0 0"/>
      <axis xyz="0 0 1"/>
    </joint>

    <link name="$(arg tf_prefix)/rod2_r_${wheel}">
      <visual>
        <geometry>
          <cylinder length="80" radius="0.01"/>
        </geometry>
	<material name="green" />
      </visual>
    </link>

    <joint name="$(arg tf_prefix)/rod2_r_${wheel}" type="fixed">
      <parent link="$(arg tf_prefix)/rod_r_${wheel}"/>
      <child link="$(arg tf_prefix)/rod2_r_${wheel}"/>
      <origin xyz="0 0 -40" rpy="0 0 0"/>
      <axis xyz="0 0 1"/>
    </joint>
    -->
  <!-- -->
  <link name="/corner0_1">
    <inertial>
      <origin rpy="0 0 0" xyz="0 0 0"/>
      <mass value="0.915"/>
      <!-- Measured /-->
      <inertia ixx="1.0" ixy="0.0" ixz="0.0" iyy="1.0" iyz="0.0" izz="1.0"/>
      <!-- Guess /-->
    </inertial>
    <visual>
      <geometry>
        <mesh filename="../meshes/clamps/DUMMY-T-BRACKET.stl"/>
      </geometry>
      <material name="alu"/>
    </visual>
  </link>
  <link name="/corner0_2">
    <inertial>
      <origin rpy="0 0 0" xyz="0 0 0"/>
      <mass value="0.915"/>
      <!-- Measured /-->
      <inertia ixx="1.0" ixy="0.0" ixz="0.0" iyy="1.0" iyz="0.0" izz="1.0"/>
      <!-- Guess /-->
    </inertial>
    <visual>
      <geometry>
        <mesh filename="../meshes/clamps/DUMMY-T-BRACKET.stl"/>
      </geometry>
      <material name="alu"/>
    </visual>
  </link>
  <link name="/corner0">
    <inertial>
      <origin rpy="0 0 0" xyz="0 0 0"/>
      <mass value="0.915"/>
      <!-- Measured /-->
      <inertia ixx="1.0" ixy="0.0" ixz="0.0" iyy="1.0" iyz="0.0" izz="1.0"/>
      <!-- Guess /-->
    </inertial>
    <visual>
      <geometry>
        <cylinder length="0.15" radius="0.02"/>
      </geometry>
      <material name="alu"/>
    </visual>
  </link>
  <joint name="/corner0_link_1" type="fixed">
    <parent link="/corner0"/>
    <child link="/corner0_1"/>
    <origin rpy="0 0 0" xyz="0.057 0 -0.075"/>
    <axis xyz="0 0 1"/>
  </joint>
  <joint name="/corner0_link_2" type="fixed">
    <parent link="/corner0"/>
    <child link="/corner0_2"/>
    <origin rpy="0 0 0" xyz="0.057 0 0.075"/>
    <axis xyz="0 0 1"/>
  </joint>
  <link name="/corner0_3">
    <inertial>
      <origin rpy="0 0 0" xyz="0 0 0"/>
      <mass value="0.915"/>
      <!-- Measured /-->
      <inertia ixx="1.0" ixy="0.0" ixz="0.0" iyy="1.0" iyz="0.0" izz="1.0"/>
      <!-- Guess /-->
    </inertial>
    <visual>
      <geometry>
        <mesh filename="../meshes/clamps/DUMMY-SUSP.stl"/>
      </geometry>
      <material name="alu"/>
    </visual>
  </link>
  <link name="/corner0_4">
    <inertial>
      <origin rpy="0 0 0" xyz="0 0 0"/>
      <mass value="0.915"/>
      <!-- Measured /-->
      <inertia ixx="1.0" ixy="0.0" ixz="0.0" iyy="1.0" iyz="0.0" izz="1.0"/>
      <!-- Guess /-->
    </inertial>
    <visual>
      <geometry>
        <mesh filename="../meshes/clamps/DUMMY-SUSP.stl"/>
      </geometry>
      <material name="alu"/>
    </visual>
  </link>
  <joint name="/corner0_link_3" type="fixed">
    <parent link="/corner0"/>
    <child link="/corner0_3"/>
    <origin rpy="0 0.25 0" xyz="0.1 0 -0.075"/>
    <axis xyz="0 0 1"/>
  </joint>
  <joint name="/corner0_link_4" type="fixed">
    <parent link="/corner0"/>
    <child link="/corner0_4"/>
    <origin rpy="0 0.25 0" xyz="0.1 0 0.075"/>
    <axis xyz="0 0 1"/>
  </joint>
  <joint name="/corner0_link" type="fixed">
    <parent link="/base_link"/>
    <child link="/corner0"/>
    <origin rpy="0 0 -3.14159265359" xyz="-0.368 -0.75 0.68221"/>
    <axis xyz="0 0 1"/>
  </joint>
  <link name="/corner1_1">
    <inertial>
      <origin rpy="0 0 0" xyz="0 0 0"/>
      <mass value="0.915"/>
      <!-- Measured /-->
      <inertia ixx="1.0" ixy="0.0" ixz="0.0" iyy="1.0" iyz="0.0" izz="1.0"/>
      <!-- Guess /-->
    </inertial>
    <visual>
      <geometry>
        <mesh filename="../meshes/clamps/DUMMY-T-BRACKET.stl"/>
      </geometry>
      <material name="alu"/>
    </visual>
  </link>
  <link name="/corner1_2">
    <inertial>
      <origin rpy="0 0 0" xyz="0 0 0"/>
      <mass value="0.915"/>
      <!-- Measured /-->
      <inertia ixx="1.0" ixy="0.0" ixz="0.0" iyy="1.0" iyz="0.0" izz="1.0"/>
      <!-- Guess /-->
    </inertial>
    <visual>
      <geometry>
        <mesh filename="../meshes/clamps/DUMMY-T-BRACKET.stl"/>
      </geometry>
      <material name="alu"/>
    </visual>
  </link>
  <link name="/corner1">
    <inertial>
      <origin rpy="0 0 0" xyz="0 0 0"/>
      <mass value="0.915"/>
      <!-- Measured /-->
      <inertia ixx="1.0" ixy="0.0" ixz="0.0" iyy="1.0" iyz="0.0" izz="1.0"/>
      <!-- Guess /-->
    </inertial>
    <visual>
      <geometry>
        <cylinder length="0.15" radius="0.02"/>
      </geometry>
      <material name="alu"/>
    </visual>
  </link>
  <joint name="/corner1_link_1" type="fixed">
    <parent link="/corner1"/>
    <child link="/corner1_1"/>
    <origin rpy="0 0 0" xyz="0.057 0 -0.075"/>
    <axis xyz="0 0 1"/>
  </joint>
  <joint name="/corner1_link_2" type="fixed">
    <parent link="/corner1"/>
    <child link="/corner1_2"/>
    <origin rpy="0 0 0" xyz="0.057 0 0.075"/>
    <axis xyz="0 0 1"/>
  </joint>
  <link name="/corner1_3">
    <inertial>
      <origin rpy="0 0 0" xyz="0 0 0"/>
      <mass value="0.915"/>
      <!-- Measured /-->
      <inertia ixx="1.0" ixy="0.0" ixz="0.0" iyy="1.0" iyz="0.0" izz="1.0"/>
      <!-- Guess /-->
    </inertial>
    <visual>
      <geometry>
        <mesh filename="../meshes/clamps/DUMMY-SUSP.stl"/>
      </geometry>
      <material name="alu"/>
    </visual>
  </link>
  <link name="/corner1_4">
    <inertial>
      <origin rpy="0 0 0" xyz="0 0 0"/>
      <mass value="0.915"/>
      <!-- Measured /-->
      <inertia ixx="1.0" ixy="0.0" ixz="0.0" iyy="1.0" iyz="0.0" izz="1.0"/>
      <!-- Guess /-->
    </inertial>
    <visual>
      <geometry>
        <mesh filename="../meshes/clamps/DUMMY-SUSP.stl"/>
      </geometry>
      <material name="alu"/>
    </visual>
  </link>
  <joint name="/corner1_link_3" type="fixed">
    <parent link="/corner1"/>
    <child link="/corner1_3"/>
    <origin rpy="0 0.25 0" xyz="0.1 0 -0.075"/>
    <axis xyz="0 0 1"/>
  </joint>
  <joint name="/corner1_link_4" type="fixed">
    <parent link="/corner1"/>
    <child link="/corner1_4"/>
    <origin rpy="0 0.25 0" xyz="0.1 0 0.075"/>
    <axis xyz="0 0 1"/>
  </joint>
  <joint name="/corner1_link" type="fixed">
    <parent link="/base_link"/>
    <child link="/corner1"/>
    <origin rpy="0 0 0" xyz="0.368 -0.75 0.68221"/>
    <axis xyz="0 0 1"/>
  </joint>
  <link name="/corner2_1">
    <inertial>
      <origin rpy="0 0 0" xyz="0 0 0"/>
      <mass value="0.915"/>
      <!-- Measured /-->
      <inertia ixx="1.0" ixy="0.0" ixz="0.0" iyy="1.0" iyz="0.0" izz="1.0"/>
      <!-- Guess /-->
    </inertial>
    <visual>
      <geometry>
        <mesh filename="../meshes/clamps/DUMMY-T-BRACKET.stl"/>
      </geometry>
      <material name="alu"/>
    </visual>
  </link>
  <link name="/corner2_2">
    <inertial>
      <origin rpy="0 0 0" xyz="0 0 0"/>
      <mass value="0.915"/>
      <!-- Measured /-->
      <inertia ixx="1.0" ixy="0.0" ixz="0.0" iyy="1.0" iyz="0.0" izz="1.0"/>
      <!-- Guess /-->
    </inertial>
    <visual>
      <geometry>
        <mesh filename="../meshes/clamps/DUMMY-T-BRACKET.stl"/>
      </geometry>
      <material name="alu"/>
    </visual>
  </link>
  <link name="/corner2">
    <inertial>
      <origin rpy="0 0 0" xyz="0 0 0"/>
      <mass value="0.915"/>
      <!-- Measured /-->
      <inertia ixx="1.0" ixy="0.0" ixz="0.0" iyy="1.0" iyz="0.0" izz="1.0"/>
      <!-- Guess /-->
    </inertial>
    <visual>
      <geometry>
        <cylinder length="0.15" radius="0.02"/>
      </geometry>
      <material name="alu"/>
    </visual>
  </link>
  <joint name="/corner2_link_1" type="fixed">
    <parent link="/corner2"/>
    <child link="/corner2_1"/>
    <origin rpy="0 0 0" xyz="0.057 0 -0.075"/>
    <axis xyz="0 0 1"/>
  </joint>
  <joint name="/corner2_link_2" type="fixed">
    <parent link="/corner2"/>
    <child link="/corner2_2"/>
    <origin rpy="0 0 0" xyz="0.057 0 0.075"/>
    <axis xyz="0 0 1"/>
  </joint>
  <link name="/corner2_3">
    <inertial>
      <origin rpy="0 0 0" xyz="0 0 0"/>
      <mass value="0.915"/>
      <!-- Measured /-->
      <inertia ixx="1.0" ixy="0.0" ixz="0.0" iyy="1.0" iyz="0.0" izz="1.0"/>
      <!-- Guess /-->
    </inertial>
    <visual>
      <geometry>
        <mesh filename="../meshes/clamps/DUMMY-SUSP.stl"/>
      </geometry>
      <material name="alu"/>
    </visual>
  </link>
  <link name="/corner2_4">
    <inertial>
      <origin rpy="0 0 0" xyz="0 0 0"/>
      <mass value="0.915"/>
      <!-- Measured /-->
      <inertia ixx="1.0" ixy="0.0" ixz="0.0" iyy="1.0" iyz="0.0" izz="1.0"/>
      <!-- Guess /-->
    </inertial>
    <visual>
      <geometry>
        <mesh filename="../meshes/clamps/DUMMY-SUSP.stl"/>
      </geometry>
      <material name="alu"/>
    </visual>
  </link>
  <joint name="/corner2_link_3" type="fixed">
    <parent link="/corner2"/>
    <child link="/corner2_3"/>
    <origin rpy="0 0.25 0" xyz="0.1 0 -0.075"/>
    <axis xyz="0 0 1"/>
  </joint>
  <joint name="/corner2_link_4" type="fixed">
    <parent link="/corner2"/>
    <child link="/corner2_4"/>
    <origin rpy="0 0.25 0" xyz="0.1 0 0.075"/>
    <axis xyz="0 0 1"/>
  </joint>
  <joint name="/corner2_link" type="fixed">
    <parent link="/base_link"/>
    <child link="/corner2"/>
    <origin rpy="0 0 0" xyz="0.368 0.75 0.68221"/>
    <axis xyz="0 0 1"/>
  </joint>
  <link name="/corner3_1">
    <inertial>
      <origin rpy="0 0 0" xyz="0 0 0"/>
      <mass value="0.915"/>
      <!-- Measured /-->
      <inertia ixx="1.0" ixy="0.0" ixz="0.0" iyy="1.0" iyz="0.0" izz="1.0"/>
      <!-- Guess /-->
    </inertial>
    <visual>
      <geometry>
        <mesh filename="../meshes/clamps/DUMMY-T-BRACKET.stl"/>
      </geometry>
      <material name="alu"/>
    </visual>
  </link>
  <link name="/corner3_2">
    <inertial>
      <origin rpy="0 0 0" xyz="0 0 0"/>
      <mass value="0.915"/>
      <!-- Measured /-->
      <inertia ixx="1.0" ixy="0.0" ixz="0.0" iyy="1.0" iyz="0.0" izz="1.0"/>
      <!-- Guess /-->
    </inertial>
    <visual>
      <geometry>
        <mesh filename="../meshes/clamps/DUMMY-T-BRACKET.stl"/>
      </geometry>
      <material name="alu"/>
    </visual>
  </link>
  <link name="/corner3">
    <inertial>
      <origin rpy="0 0 0" xyz="0 0 0"/>
      <mass value="0.915"/>
      <!-- Measured /-->
      <inertia ixx="1.0" ixy="0.0" ixz="0.0" iyy="1.0" iyz="0.0" izz="1.0"/>
      <!-- Guess /-->
    </inertial>
    <visual>
      <geometry>
        <cylinder length="0.15" radius="0.02"/>
      </geometry>
      <material name="alu"/>
    </visual>
  </link>
  <joint name="/corner3_link_1" type="fixed">
    <parent link="/corner3"/>
    <child link="/corner3_1"/>
    <origin rpy="0 0 0" xyz="0.057 0 -0.075"/>
    <axis xyz="0 0 1"/>
  </joint>
  <joint name="/corner3_link_2" type="fixed">
    <parent link="/corner3"/>
    <child link="/corner3_2"/>
    <origin rpy="0 0 0" xyz="0.057 0 0.075"/>
    <axis xyz="0 0 1"/>
  </joint>
  <link name="/corner3_3">
    <inertial>
      <origin rpy="0 0 0" xyz="0 0 0"/>
      <mass value="0.915"/>
      <!-- Measured /-->
      <inertia ixx="1.0" ixy="0.0" ixz="0.0" iyy="1.0" iyz="0.0" izz="1.0"/>
      <!-- Guess /-->
    </inertial>
    <visual>
      <geometry>
        <mesh filename="../meshes/clamps/DUMMY-SUSP.stl"/>
      </geometry>
      <material name="alu"/>
    </visual>
  </link>
  <link name="/corner3_4">
    <inertial>
      <origin rpy="0 0 0" xyz="0 0 0"/>
      <mass value="0.915"/>
      <!-- Measured /-->
      <inertia ixx="1.0" ixy="0.0" ixz="0.0" iyy="1.0" iyz="0.0" izz="1.0"/>
      <!-- Guess /-->
    </inertial>
    <visual>
      <geometry>
        <mesh filename="../meshes/clamps/DUMMY-SUSP.stl"/>
      </geometry>
      <material name="alu"/>
    </visual>
  </link>
  <joint name="/corner3_link_3" type="fixed">
    <parent link="/corner3"/>
    <child link="/corner3_3"/>
    <origin rpy="0 0.25 0" xyz="0.1 0 -0.075"/>
    <axis xyz="0 0 1"/>
  </joint>
  <joint name="/corner3_link_4" type="fixed">
    <parent link="/corner3"/>
    <child link="/corner3_4"/>
    <origin rpy="0 0.25 0" xyz="0.1 0 0.075"/>
    <axis xyz="0 0 1"/>
  </joint>
  <joint name="/corner3_link" type="fixed">
    <parent link="/base_link"/>
    <child link="/corner3"/>
    <origin rpy="0 0 -3.14159265359" xyz="-0.368 0.75 0.68221"/>
    <axis xyz="0 0 1"/>
  </joint>
  <link name="/pipe0_1">
    <inertial>
      <origin rpy="0 0 0" xyz="0 0 0"/>
      <mass value="1.0"/>
      <!-- guess /-->
      <inertia ixx="1.0" ixy="0.0" ixz="0.0" iyy="1.0" iyz="0.0" izz="1.0"/>
      <!-- guess /-->
    </inertial>
    <visual>
      <geometry>
        <cylinder length="0.85" radius="0.02"/>
      </geometry>
      <material name="alu"/>
    </visual>
    <collision>
      <geometry>
        <cylinder length="0.85" radius="0.02"/>
      </geometry>
    </collision>
  </link>
  <link name="/pipe0_2">
    <inertial>
      <origin rpy="0 0 0" xyz="0 0 0"/>
      <mass value="1.0"/>
      <!-- guess /-->
      <inertia ixx="1.0" ixy="0.0" ixz="0.0" iyy="1.0" iyz="0.0" izz="1.0"/>
      <!-- guess /-->
    </inertial>
    <visual>
      <geometry>
        <cylinder length="0.85" radius="0.02"/>
      </geometry>
      <material name="alu"/>
    </visual>
    <collision>
      <geometry>
        <cylinder length="0.85" radius="0.02"/>
      </geometry>
    </collision>
  </link>
  <joint name="/pipe0_link_1" type="fixed">
    <parent link="/base_link"/>
    <child link="/pipe0_1"/>
    <origin rpy="1.57079632679 0 -1.57079632679" xyz="0.0 -0.75 0.60721"/>
    <axis xyz="0 0 1"/>
  </joint>
  <joint name="/pipe0_link_2" type="fixed">
    <parent link="/base_link"/>
    <child link="/pipe0_2"/>
    <origin rpy="1.57079632679 0 -1.57079632679" xyz="0.0 -0.75 0.75721"/>
    <axis xyz="0 0 1"/>
  </joint>
  <link name="/pipe1_1">
    <inertial>
      <origin rpy="0 0 0" xyz="0 0 0"/>
      <mass value="1.0"/>
      <!-- guess /-->
      <inertia ixx="1.0" ixy="0.0" ixz="0.0" iyy="1.0" iyz="0.0" izz="1.0"/>
      <!-- guess /-->
    </inertial>
    <visual>
      <geometry>
        <cylinder length="1.5" radius="0.02"/>
      </geometry>
      <material name="alu"/>
    </visual>
    <collision>
      <geometry>
        <cylinder length="1.5" radius="0.02"/>
      </geometry>
    </collision>
  </link>
  <link name="/pipe1_2">
    <inertial>
      <origin rpy="0 0 0" xyz="0 0 0"/>
      <mass value="1.0"/>
      <!-- guess /-->
      <inertia ixx="1.0" ixy="0.0" ixz="0.0" iyy="1.0" iyz="0.0" izz="1.0"/>
      <!-- guess /-->
    </inertial>
    <visual>
      <geometry>
        <cylinder length="1.5" radius="0.02"/>
      </geometry>
      <material name="alu"/>
    </visual>
    <collision>
      <geometry>
        <cylinder length="1.5" radius="0.02"/>
      </geometry>
    </collision>
  </link>
  <joint name="/pipe1_link_1" type="fixed">
    <parent link="/base_link"/>
    <child link="/pipe1_1"/>
    <origin rpy="1.57079632679 0 0.0" xyz="0.425 0.0 0.60721"/>
    <axis xyz="0 0 1"/>
  </joint>
  <joint name="/pipe1_link_2" type="fixed">
    <parent link="/base_link"/>
    <child link="/pipe1_2"/>
    <origin rpy="1.57079632679 0 0.0" xyz="0.425 0.0 0.75721"/>
    <axis xyz="0 0 1"/>
  </joint>
  <link name="/pipe2_1">
    <inertial>
      <origin rpy="0 0 0" xyz="0 0 0"/>
      <mass value="1.0"/>
      <!-- guess /-->
      <inertia ixx="1.0" ixy="0.0" ixz="0.0" iyy="1.0" iyz="0.0" izz="1.0"/>
      <!-- guess /-->
    </inertial>
    <visual>
      <geometry>
        <cylinder length="0.85" radius="0.02"/>
      </geometry>
      <material name="alu"/>
    </visual>
    <collision>
      <geometry>
        <cylinder length="0.85" radius="0.02"/>
      </geometry>
    </collision>
  </link>
  <link name="/pipe2_2">
    <inertial>
      <origin rpy="0 0 0" xyz="0 0 0"/>
      <mass value="1.0"/>
      <!-- guess /-->
      <inertia ixx="1.0" ixy="0.0" ixz="0.0" iyy="1.0" iyz="0.0" izz="1.0"/>
      <!-- guess /-->
    </inertial>
    <visual>
      <geometry>
        <cylinder length="0.85" radius="0.02"/>
      </geometry>
      <material name="alu"/>
    </visual>
    <collision>
      <geometry>
        <cylinder length="0.85" radius="0.02"/>
      </geometry>
    </collision>
  </link>
  <joint name="/pipe2_link_1" type="fixed">
    <parent link="/base_link"/>
    <child link="/pipe2_1"/>
    <origin rpy="1.57079632679 0 1.57079632679" xyz="0.0 0.75 0.60721"/>
    <axis xyz="0 0 1"/>
  </joint>
  <joint name="/pipe2_link_2" type="fixed">
    <parent link="/base_link"/>
    <child link="/pipe2_2"/>
    <origin rpy="1.57079632679 0 1.57079632679" xyz="0.0 0.75 0.75721"/>
    <axis xyz="0 0 1"/>
  </joint>
  <link name="/pipe3_1">
    <inertial>
      <origin rpy="0 0 0" xyz="0 0 0"/>
      <mass value="1.0"/>
      <!-- guess /-->
      <inertia ixx="1.0" ixy="0.0" ixz="0.0" iyy="1.0" iyz="0.0" izz="1.0"/>
      <!-- guess /-->
    </inertial>
    <visual>
      <geometry>
        <cylinder length="1.5" radius="0.02"/>
      </geometry>
      <material name="alu"/>
    </visual>
    <collision>
      <geometry>
        <cylinder length="1.5" radius="0.02"/>
      </geometry>
    </collision>
  </link>
  <link name="/pipe3_2">
    <inertial>
      <origin rpy="0 0 0" xyz="0 0 0"/>
      <mass value="1.0"/>
      <!-- guess /-->
      <inertia ixx="1.0" ixy="0.0" ixz="0.0" iyy="1.0" iyz="0.0" izz="1.0"/>
      <!-- guess /-->
    </inertial>
    <visual>
      <geometry>
        <cylinder length="1.5" radius="0.02"/>
      </geometry>
      <material name="alu"/>
    </visual>
    <collision>
      <geometry>
        <cylinder length="1.5" radius="0.02"/>
      </geometry>
    </collision>
  </link>
  <joint name="/pipe3_link_1" type="fixed">
    <parent link="/base_link"/>
    <child link="/pipe3_1"/>
    <origin rpy="1.57079632679 0 -3.14159265359" xyz="-0.425 0.0 0.60721"/>
    <axis xyz="0 0 1"/>
  </joint>
  <joint name="/pipe3_link_2" type="fixed">
    <parent link="/base_link"/>
    <child link="/pipe3_2"/>
    <origin rpy="1.57079632679 0 -3.14159265359" xyz="-0.425 0.0 0.75721"/>
    <axis xyz="0 0 1"/>
  </joint>
  <link name="/pipe4_1">
    <inertial>
      <origin rpy="0 0 0" xyz="0 0 0"/>
      <mass value="1.0"/>
      <!-- guess /-->
      <inertia ixx="1.0" ixy="0.0" ixz="0.0" iyy="1.0" iyz="0.0" izz="1.0"/>
      <!-- guess /-->
    </inertial>
    <visual>
      <geometry>
        <cylinder length="1.72409396496" radius="0.02"/>
      </geometry>
      <material name="alu"/>
    </visual>
    <collision>
      <geometry>
        <cylinder length="1.72409396496" radius="0.02"/>
      </geometry>
    </collision>
  </link>
  <link name="/pipe4_2">
    <inertial>
      <origin rpy="0 0 0" xyz="0 0 0"/>
      <mass value="1.0"/>
      <!-- guess /-->
      <inertia ixx="1.0" ixy="0.0" ixz="0.0" iyy="1.0" iyz="0.0" izz="1.0"/>
      <!-- guess /-->
    </inertial>
    <visual>
      <geometry>
        <cylinder length="1.72409396496" radius="0.02"/>
      </geometry>
      <material name="alu"/>
    </visual>
    <collision>
      <geometry>
        <cylinder length="1.72409396496" radius="0.02"/>
      </geometry>
    </collision>
  </link>
  <joint name="/pipe4_link_1" type="fixed">
    <parent link="/base_link"/>
    <child link="/pipe4_1"/>
    <origin rpy="1.57079632679 0 -0.515549007459" xyz="0.0 0.0 0.60721"/>
    <axis xyz="0 0 1"/>
  </joint>
  <joint name="/pipe4_link_2" type="fixed">
    <parent link="/base_link"/>
    <child link="/pipe4_2"/>
    <origin rpy="1.57079632679 0 -0.515549007459" xyz="0.0 0.0 0.75721"/>
    <axis xyz="0 0 1"/>
  </joint>
  <link name="/bat0">
    <inertial>
      <origin rpy="0 0 0" xyz="0 0 -0.25"/>
      <mass value="12.88"/>
      <!-- measured /-->
      <inertia ixx="11.412" ixy="-0.004" ixz="-0.007" iyy="14.850" iyz="0.806" izz="5.588"/>
      <!-- measured /-->
    </inertial>
    <visual>
      <origin rpy="0 0 0" xyz="0 0 0"/>
      <geometry>
        <mesh filename="../meshes/bat_enc_modules/836586-1-DUMMY-RevA.stl"/>
      </geometry>
      <material name="white"/>
    </visual>
    <collision>
      <geometry>
        <mesh filename="../meshes/bat_enc_modules/836586-1-DUMMY-RevA.stl"/>
      </geometry>
    </collision>
  </link>
  <joint name="/bat0_joint" type="fixed">
    <parent link="/base_link"/>
    <child link="/bat0"/>
    <origin rpy="0 0 3.14159265359" xyz="0.0 0.75 0.75721"/>
    <axis xyz="0 0 1"/>
  </joint>
  <link name="/bat1">
    <inertial>
      <origin rpy="0 0 0" xyz="0 0 -0.25"/>
      <mass value="12.88"/>
      <!-- measured /-->
      <inertia ixx="11.412" ixy="-0.004" ixz="-0.007" iyy="14.850" iyz="0.806" izz="5.588"/>
      <!-- measured /-->
    </inertial>
    <visual>
      <origin rpy="0 0 0" xyz="0 0 0"/>
      <geometry>
        <mesh filename="../meshes/bat_enc_modules/836586-1-DUMMY-RevA.stl"/>
      </geometry>
      <material name="white"/>
    </visual>
    <collision>
      <geometry>
        <mesh filename="../meshes/bat_enc_modules/836586-1-DUMMY-RevA.stl"/>
      </geometry>
    </collision>
  </link>
  <joint name="/bat1_joint" type="fixed">
    <parent link="/base_link"/>
    <child link="/bat1"/>
    <origin rpy="0 0 0" xyz="0.0 -0.75 0.75721"/>
    <axis xyz="0 0 1"/>
  </joint>
</robot>
